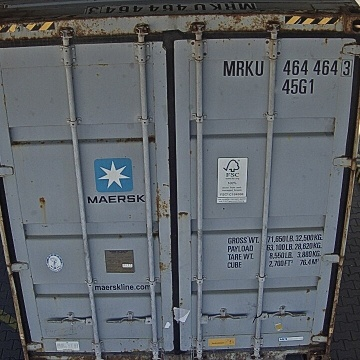serial_id: (224, 59, 352, 75)
